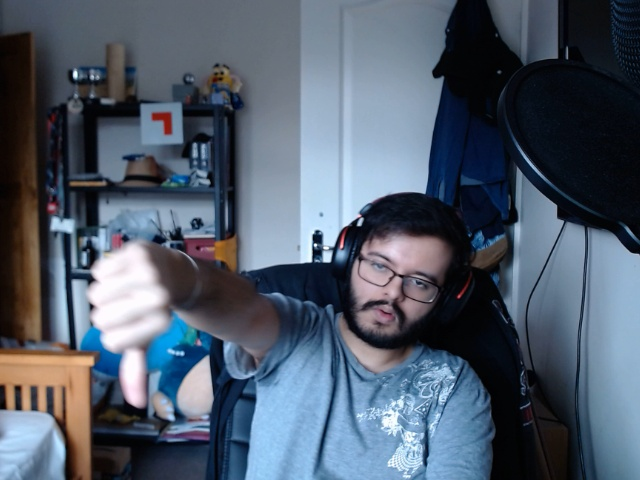Thumbs down: (86, 215, 211, 419)
